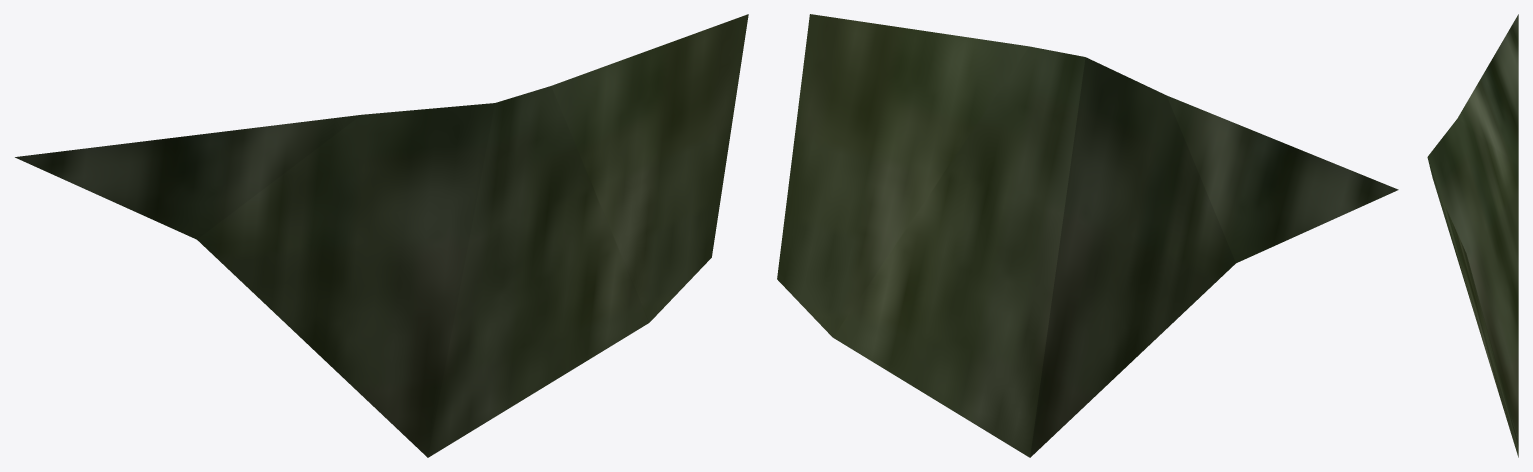
3 renders of one model, left to right at view 1: azimuth 30°, elevation 25°; view 2: azimuth 150°, elevation 25°; view 3: azimuth 270°, elevation 25°, orthographic. The views are drawn at different scales.
Bounding box in the file's own units: 1.59 × 0.8753 × 0.2555.
Materials: 1 (1 with a texture image).
